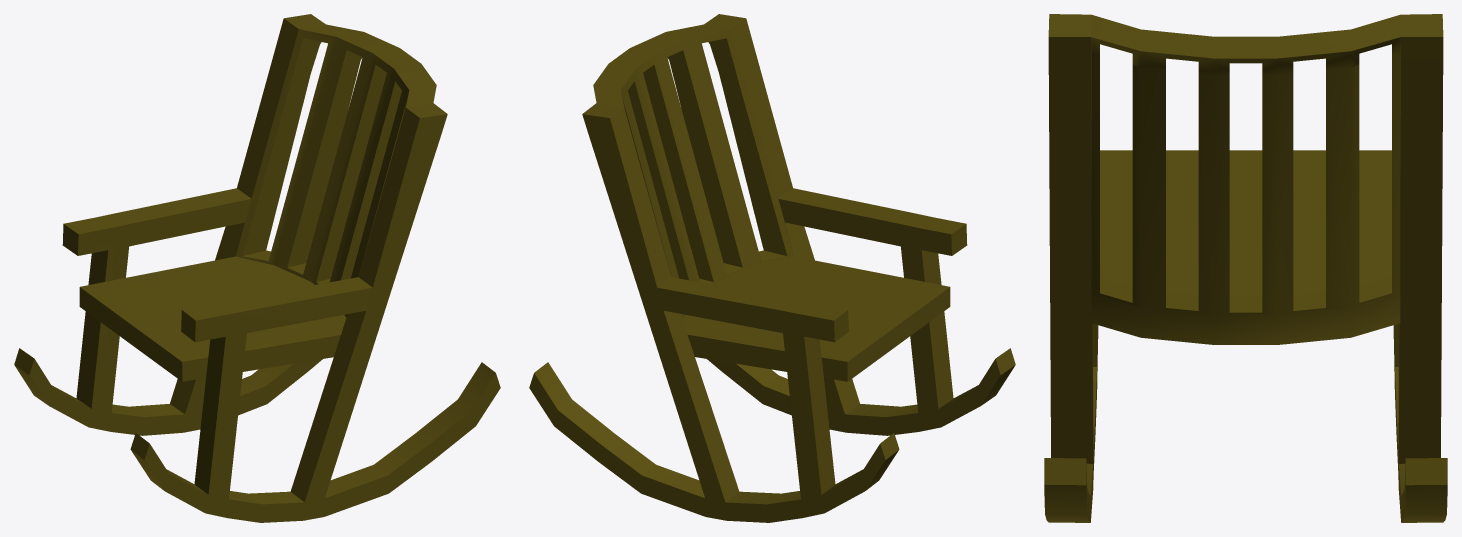
The model's file is rockingchair.fbx.
The picture shows the model from 3 angles, left to right: view 1: azimuth 30°, elevation 25°; view 2: azimuth 150°, elevation 25°; view 3: azimuth 270°, elevation 25°; orthographic projection. The views are drawn at different scales.
Parts seen in each view (by area): view 1: polySurface17; view 2: polySurface17; view 3: polySurface17.
Boxes of the visible parts, left/top/right/bottom form: polySurface17: left=14, top=14, right=500, bottom=522; polySurface17: left=529, top=14, right=1015, bottom=522; polySurface17: left=1044, top=14, right=1447, bottom=522.
Bounding box in the file's own units: 2.01 × 2.05 × 1.38.
